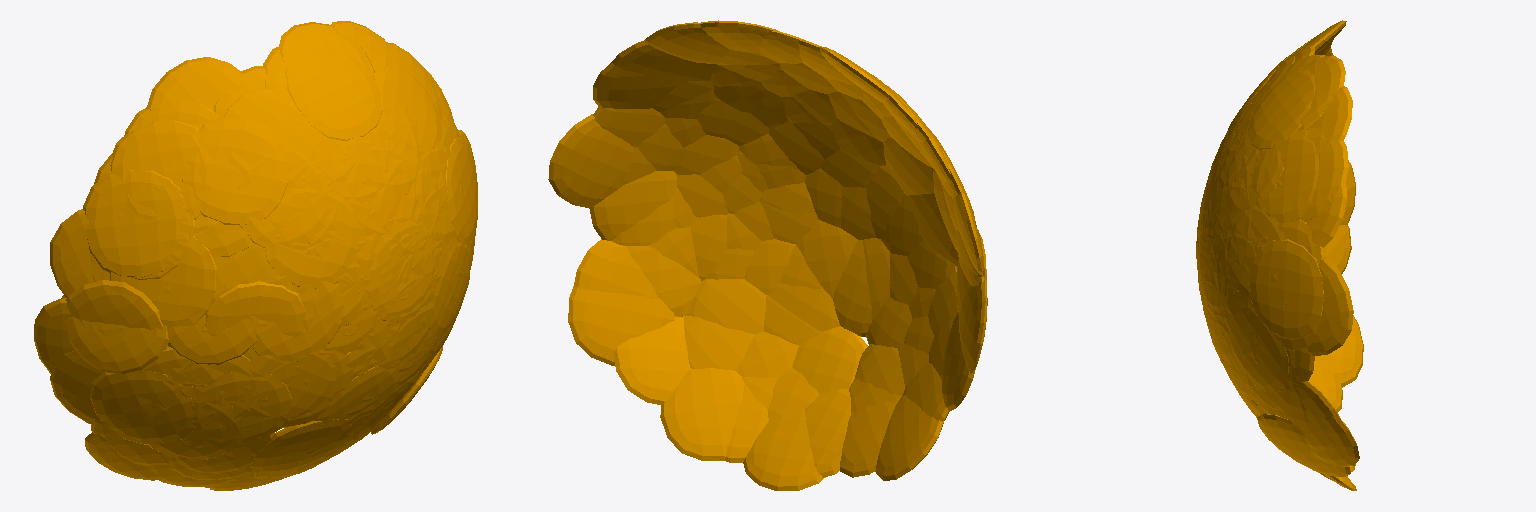
The robot description file, URDF, robot "indenter":
<robot name="indenter">
	<!-- <link name="world">
        </link>

        <joint name="world_to_indenter" type="prismatic">
                <parent link="world"/>
                <child link="indenter"/>
                <origin rpy="0.0 0.0 0.0" xyz="0.0 0.0 0.0"/>
                <axis xyz="0 1 0"/>
                <dynamics damping="0.0" friction="0.0"/>
                <limit lower="0.0" upper="0.4" velocity="1e9" effort="1e9"/>
        </joint> -->

	<link name="indenter">
		<visual>
			<origin rpy="0.0 0.0 0.0" xyz="0.0 0.0 0.0"/>
			<geometry>
				<mesh filename="../../meshes/target_objects/plate_a_shapenet.obj"/>
			</geometry>
		</visual>
		<collision>
			<origin rpy="0.0 0.0 0.0" xyz="0.0 0.0 0.0"/>
			<geometry>
				<mesh filename="../../meshes/target_objects/plate_a_shapenet.obj"/>
			</geometry>
		</collision>
		<inertial>
			<origin rpy="0.0 0.0 0.0" xyz="0.0 -8.64389e-3 0.0"/>
			<mass value="0.00224114"/>
			<inertia ixx="6.25553e-8" iyy="4.07645e-8" izz="6.25353e-8" ixy="0.0" ixz="4.69820e-15" iyz="0.0"/>
		</inertial>
	</link>
</robot>

--- Facts derived from the render (not from the file) ---
The picture shows the robot from 3 angles, left to right: view 1: azimuth 30°, elevation 25°; view 2: azimuth 150°, elevation 25°; view 3: azimuth 270°, elevation 25°; orthographic projection.
Model indenter with 1 links and 0 joints (none), rooted at indenter, posed all joints at 0.
Visible links, largest first — view 1: indenter; view 2: indenter; view 3: indenter.
Boxes of the visible links, x1=… form: indenter: x1=34, y1=21, x2=477, y2=490; indenter: x1=548, y1=20, x2=987, y2=490; indenter: x1=1196, y1=20, x2=1363, y2=490.
Bounding box of the posed robot: 0.2822 × 0.1003 × 0.2794 m (x, y, z).
Meshes: 1 distinct files referenced, 1 mesh visuals loaded (1 OBJ).